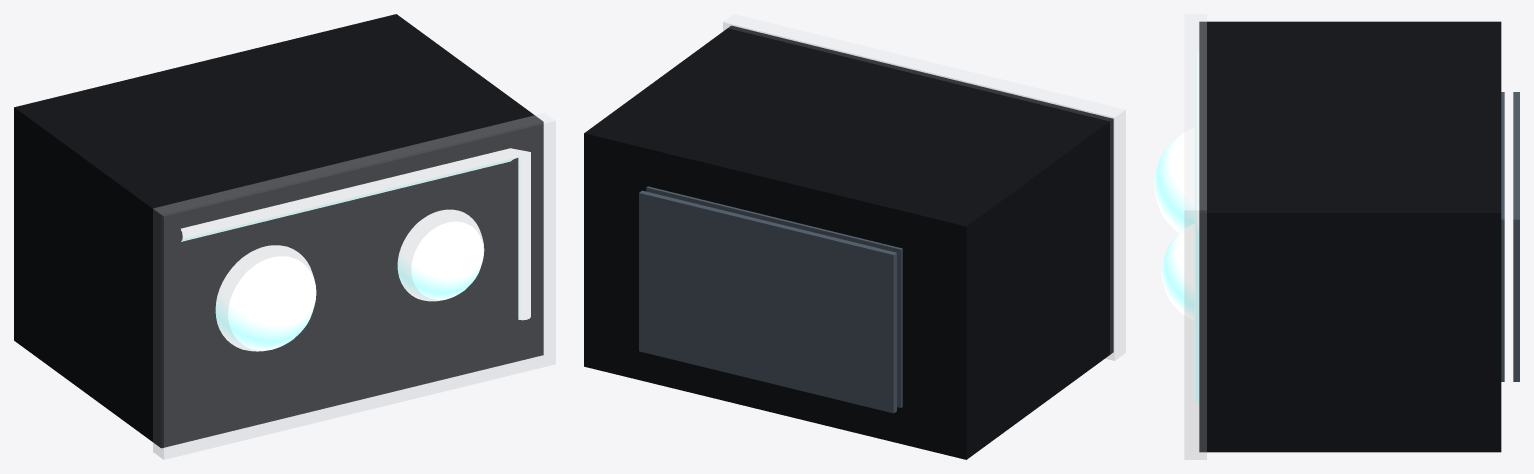
File: led_projector_headlight.glb
3 renders of one model, left to right at view 1: azimuth 30°, elevation 25°; view 2: azimuth 150°, elevation 25°; view 3: azimuth 270°, elevation 25°, orthographic. The views are drawn at different scales.
Visible parts, largest first — view 1: BiLedProjectorHeadlight; view 2: BiLedProjectorHeadlight; view 3: BiLedProjectorHeadlight.
Boxes of the visible parts, x1=… form: BiLedProjectorHeadlight: x1=14, y1=14, x2=555, y2=459; BiLedProjectorHeadlight: x1=584, y1=14, x2=1125, y2=459; BiLedProjectorHeadlight: x1=1154, y1=14, x2=1519, y2=459.
Size of the model in its own units: 2.46 by 1.46 by 1.94.
